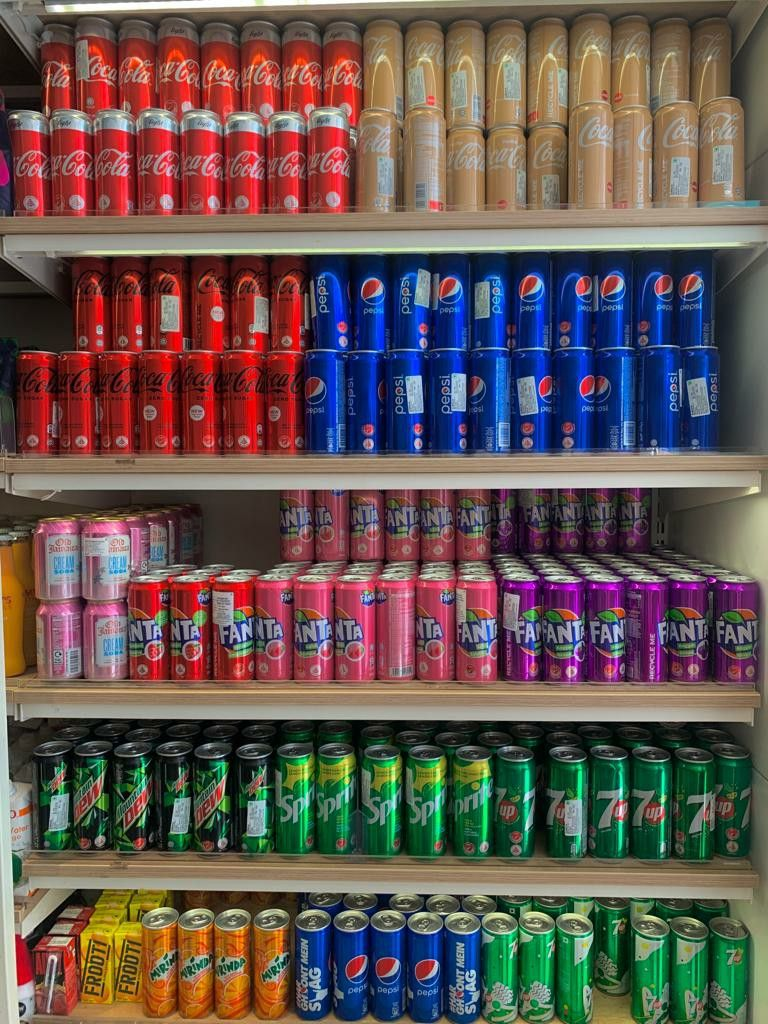soft_drink: (543, 574, 585, 682), (357, 108, 400, 211), (407, 745, 446, 857), (305, 349, 346, 453), (140, 351, 180, 455), (294, 576, 333, 679), (407, 912, 443, 1021), (157, 741, 192, 850), (83, 520, 129, 599), (393, 268, 430, 349)
